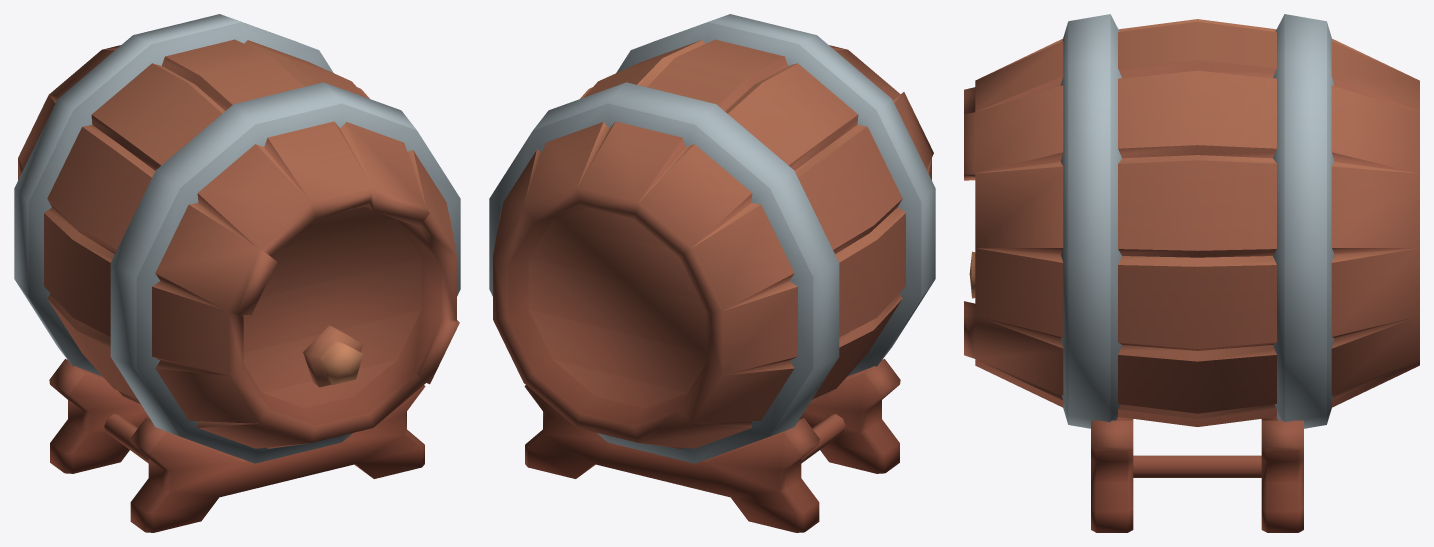
File: keg-optimized.glb
3 views of the same model, side by side, from view 1: azimuth 30°, elevation 25°; view 2: azimuth 150°, elevation 25°; view 3: azimuth 270°, elevation 25° (orthographic). The views are drawn at different scales.
Parts seen in each view (by area): view 1: keg; view 2: keg; view 3: keg.
Boxes of the visible parts, x1,y1,x2,y2 form: keg: (14,14,460,532); keg: (489,14,935,532); keg: (964,14,1419,532).
Size of the model in its own units: 1.8 by 2.05 by 2.
1 material, 1 textured.
